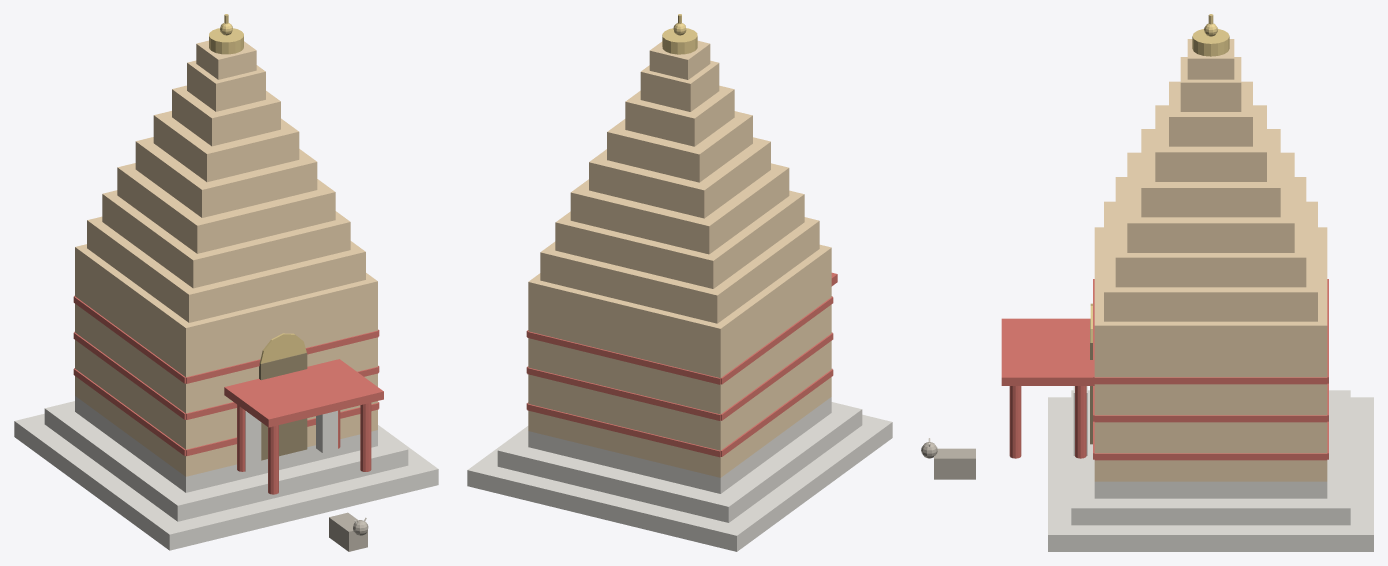
File: Temple_India.fbx
3 views of the same model, side by side, from view 1: azimuth 30°, elevation 25°; view 2: azimuth 150°, elevation 25°; view 3: azimuth 270°, elevation 25° (orthographic). The views are drawn at different scales.
Parts seen in each view (by area): view 1: Temple_India_Mesh; view 2: Temple_India_Mesh; view 3: Temple_India_Mesh.
Boxes of the visible parts, left/top/right/bottom form: Temple_India_Mesh: left=14, top=14, right=438, bottom=551; Temple_India_Mesh: left=467, top=14, right=892, bottom=551; Temple_India_Mesh: left=921, top=14, right=1373, bottom=551.
Size of the model in its own units: 7 by 11.1 by 9.73.
